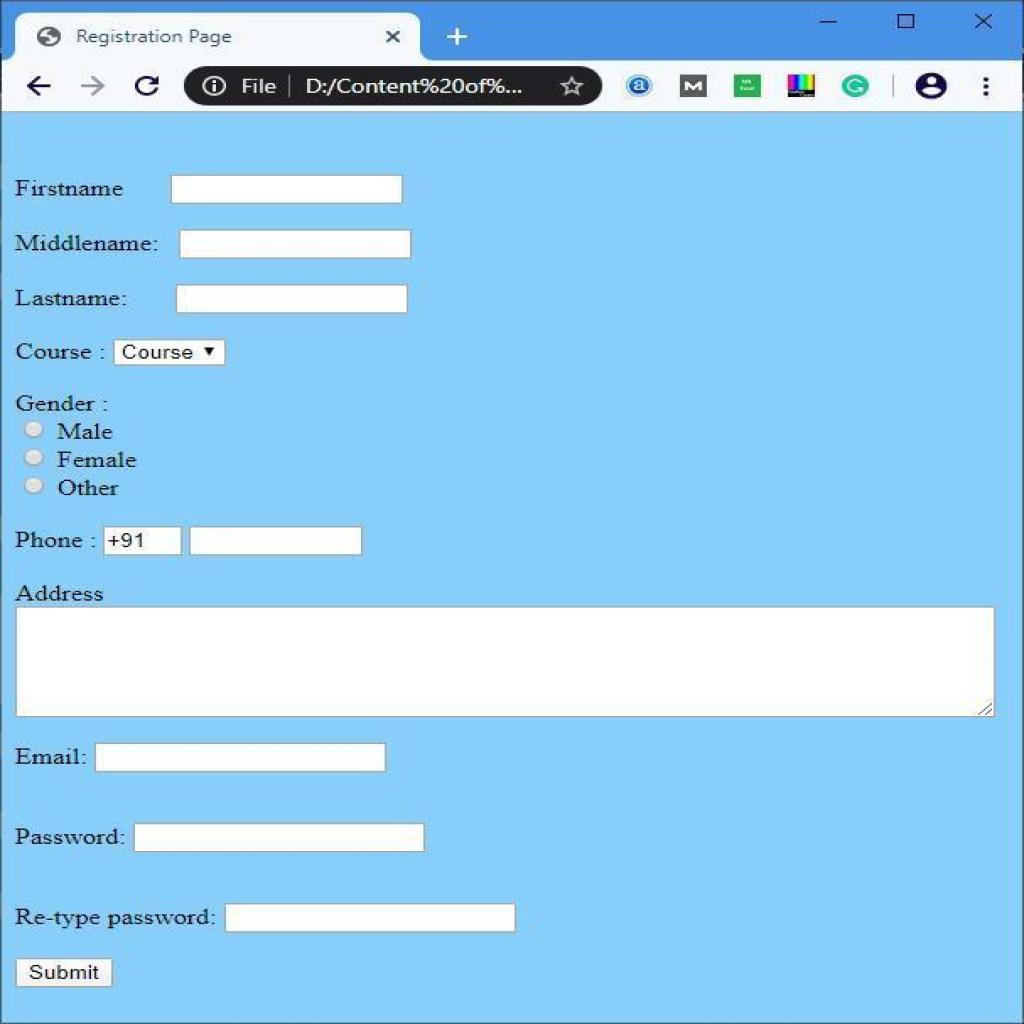button: (17, 959, 113, 986)
checkbox: (896, 12, 918, 32)
dropdown: (113, 340, 226, 366)
icon: (727, 72, 769, 102), (914, 72, 950, 100), (677, 70, 710, 100), (786, 70, 818, 100), (130, 73, 165, 100), (622, 72, 654, 101), (22, 72, 54, 100), (842, 72, 872, 101), (199, 73, 229, 99), (76, 73, 108, 97), (560, 74, 584, 100), (444, 26, 470, 50), (972, 10, 997, 34), (380, 29, 408, 48), (977, 75, 997, 101), (813, 15, 842, 31)
input: (133, 824, 425, 852), (96, 742, 386, 770), (224, 905, 516, 931), (170, 174, 404, 204), (176, 284, 408, 314), (180, 231, 412, 257), (191, 526, 361, 556), (103, 526, 180, 554)
label: (15, 905, 219, 931), (12, 228, 160, 256), (10, 286, 128, 310), (15, 823, 123, 847), (12, 338, 106, 364), (10, 584, 110, 608), (8, 391, 112, 414), (17, 179, 125, 201), (12, 524, 96, 552), (14, 744, 86, 769), (57, 450, 137, 470), (54, 420, 120, 444), (54, 478, 121, 500)
radio: (20, 447, 49, 470), (20, 475, 47, 498), (22, 418, 45, 442)
